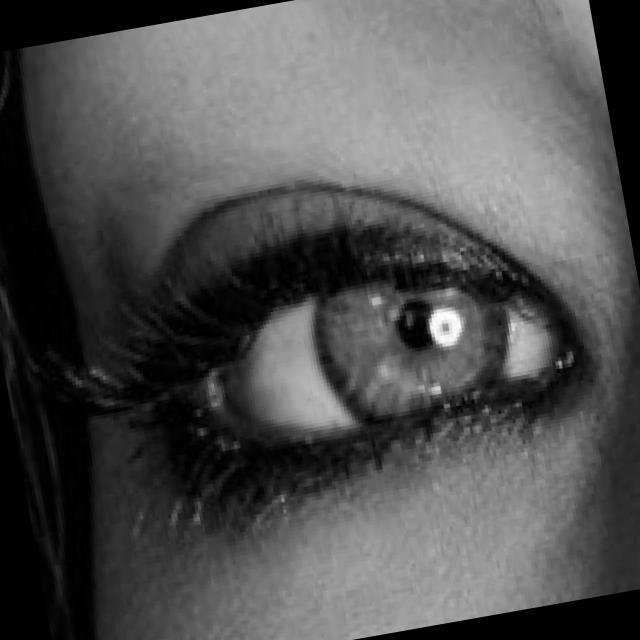Normal: (104, 169, 600, 548)
